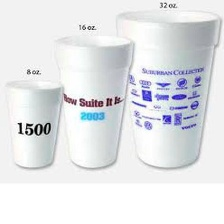paper_cup: (109, 4, 224, 174), (48, 29, 138, 172), (0, 73, 67, 173)
